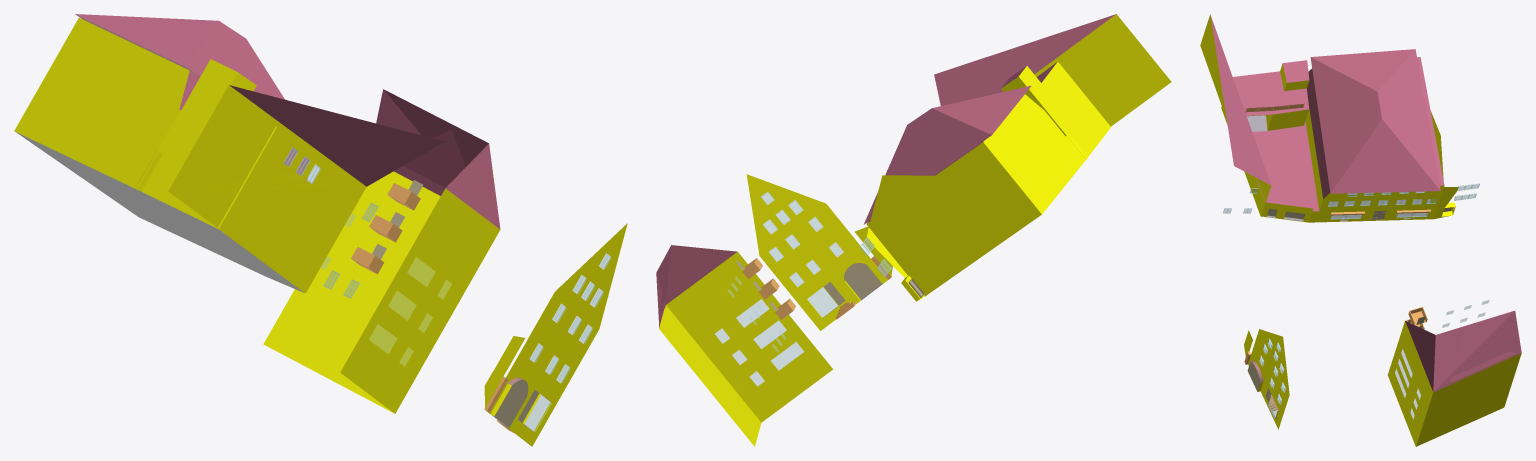
3 renders of one model, left to right at view 1: azimuth 30°, elevation 25°; view 2: azimuth 150°, elevation 25°; view 3: azimuth 270°, elevation 25°, orthographic. The views are drawn at different scales.
Visible parts, largest first — view 1: mesh; view 2: mesh; view 3: mesh.
Boxes of the visible parts, x1,y1,x2,y2 form: mesh: (14,14,627,446); mesh: (656,14,1171,446); mesh: (1200,14,1521,446).
Bounding box in the file's own units: 44 × 42.36 × 37.18.
